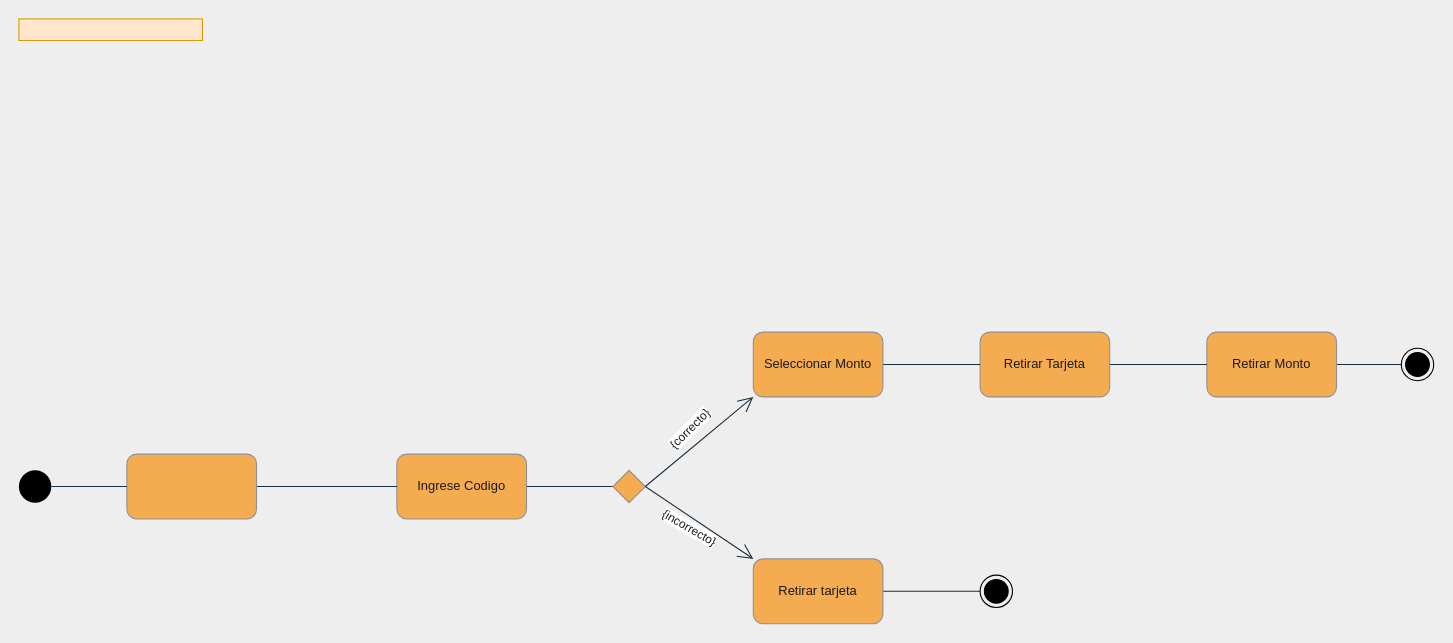
Some shapes in this 1453 by 643 pixel diagram are drawn without their labels. Each missing label, with the centre of its shape:
"Alyce Maldonado 10/11/2022" goes at [110,29].
"Ingresar Tarjeta" goes at [191,486].
